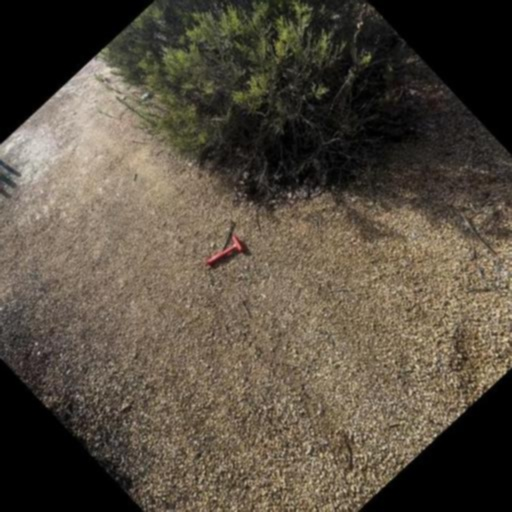mallet: (201, 231, 250, 279)
